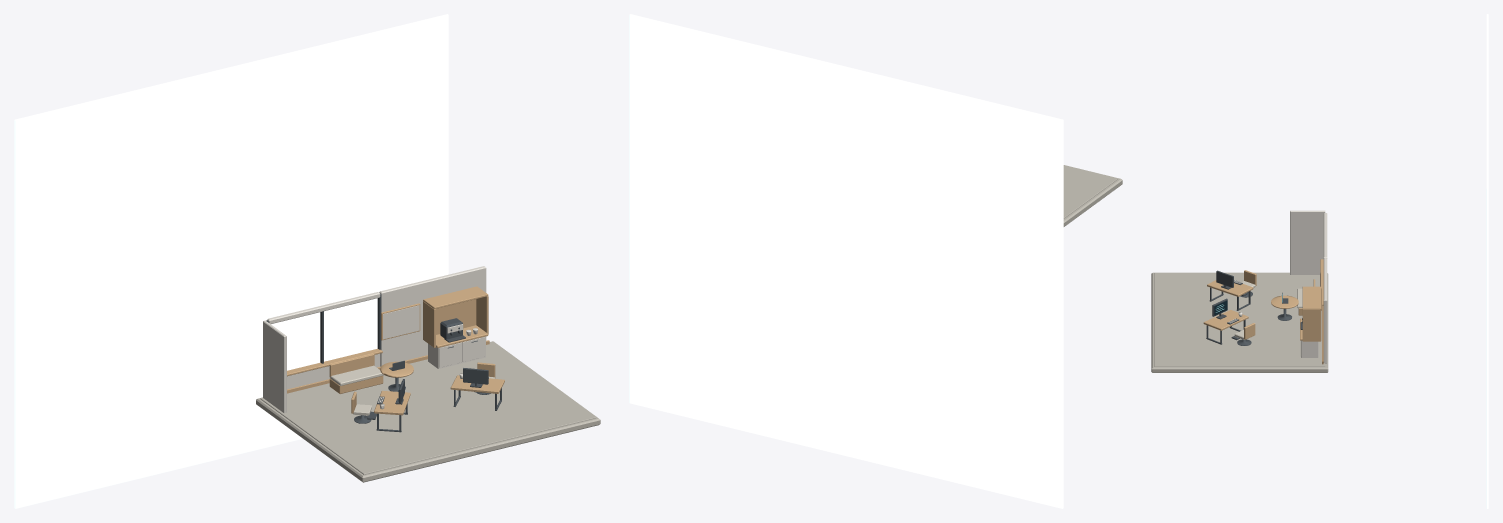
Rendered from corner-cafe.glb.
The picture shows the model from 3 angles, left to right: view 1: azimuth 30°, elevation 25°; view 2: azimuth 150°, elevation 25°; view 3: azimuth 270°, elevation 25°; orthographic projection. The views are drawn at different scales.
Parts seen in each view (by area): view 1: sky-distance, warm-floor, back-wall, level-foundation, left-return, brief-surface, coffee-niche-back, window-top, coffee-niche-top, window-sill-wall; view 2: sky-distance, warm-floor, level-foundation; view 3: warm-floor, left-return, level-foundation, sky-distance, coffee-niche-side, back-wall, desk-top, coffee-niche-top.
Boxes of the visible parts, x1,y1,x2,y2 form: sky-distance: (14, 14, 448, 508); warm-floor: (260, 341, 595, 474); back-wall: (379, 266, 486, 366); level-foundation: (256, 341, 600, 482); left-return: (263, 320, 286, 413); brief-surface: (383, 305, 419, 339); coffee-niche-back: (423, 299, 476, 334); window-top: (267, 292, 380, 323); coffee-niche-top: (423, 286, 488, 308); window-sill-wall: (287, 353, 380, 389); sky-distance: (629, 14, 1063, 508); warm-floor: (1063, 165, 1117, 218); level-foundation: (1063, 165, 1122, 226); warm-floor: (1154, 273, 1325, 366); left-return: (1290, 210, 1325, 274); level-foundation: (1151, 272, 1328, 372); sky-distance: (1486, 14, 1488, 508); coffee-niche-side: (1302, 309, 1320, 341); back-wall: (1323, 258, 1327, 363); desk-top: (1203, 310, 1248, 330); coffee-niche-top: (1302, 286, 1320, 309).
Size of the model in its own units: 28 by 24 by 22.86.
